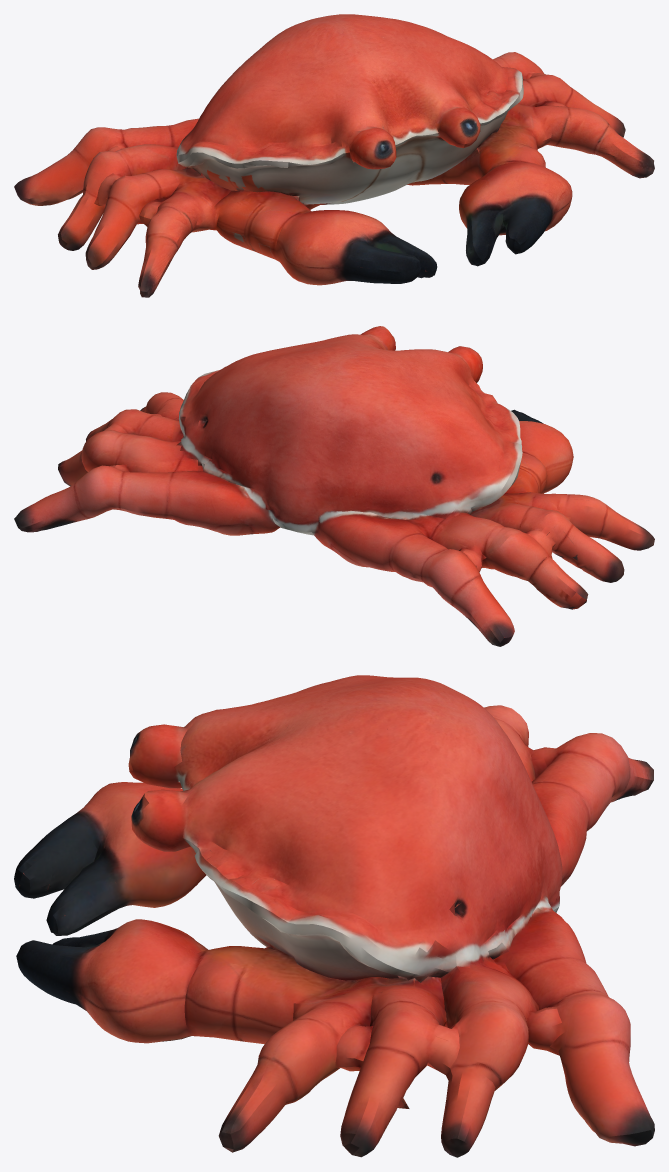
Rendered from Meshy_AI_Crimson_Crab_Plush_0417142431_texture.fbx.
The picture shows the model from 3 angles, top to bottom: view 1: azimuth 30°, elevation 25°; view 2: azimuth 150°, elevation 25°; view 3: azimuth 270°, elevation 25°; orthographic projection. The views are drawn at different scales.
Visible parts, largest first — view 1: output; view 2: output; view 3: output.
Boxes of the visible parts, bbox=[...] form: output: bbox=[14, 14, 654, 297]; output: bbox=[14, 326, 654, 646]; output: bbox=[14, 675, 654, 1157].
Bounding box in the file's own units: 200 × 63.22 × 136.
1 material, 1 textured.
